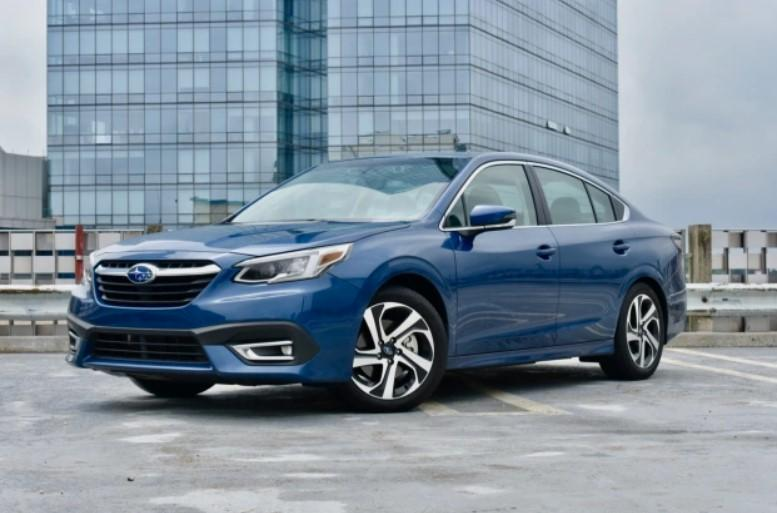subaru: (122, 258, 166, 286)
